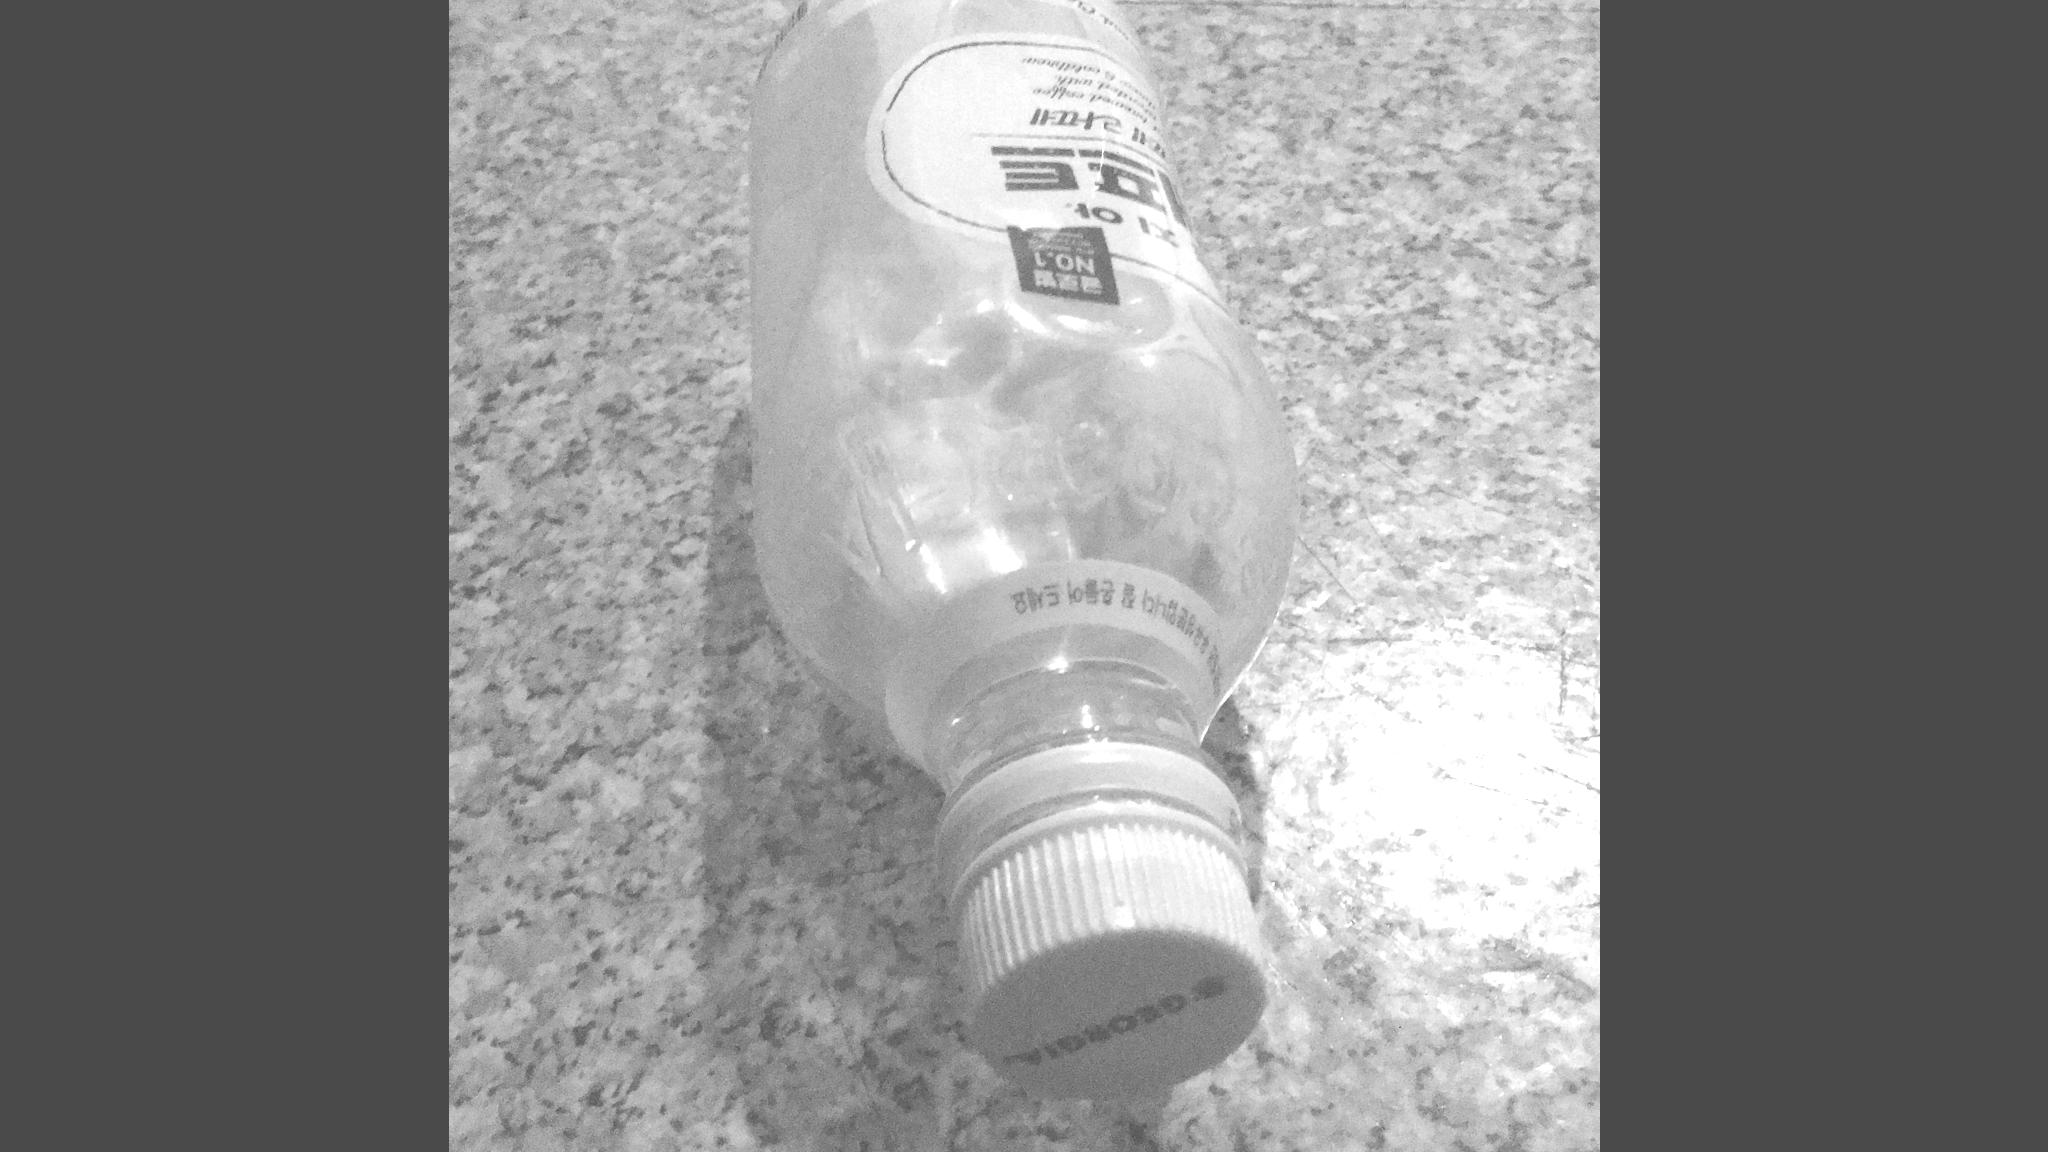bottle: (717, 0, 1477, 1056)
